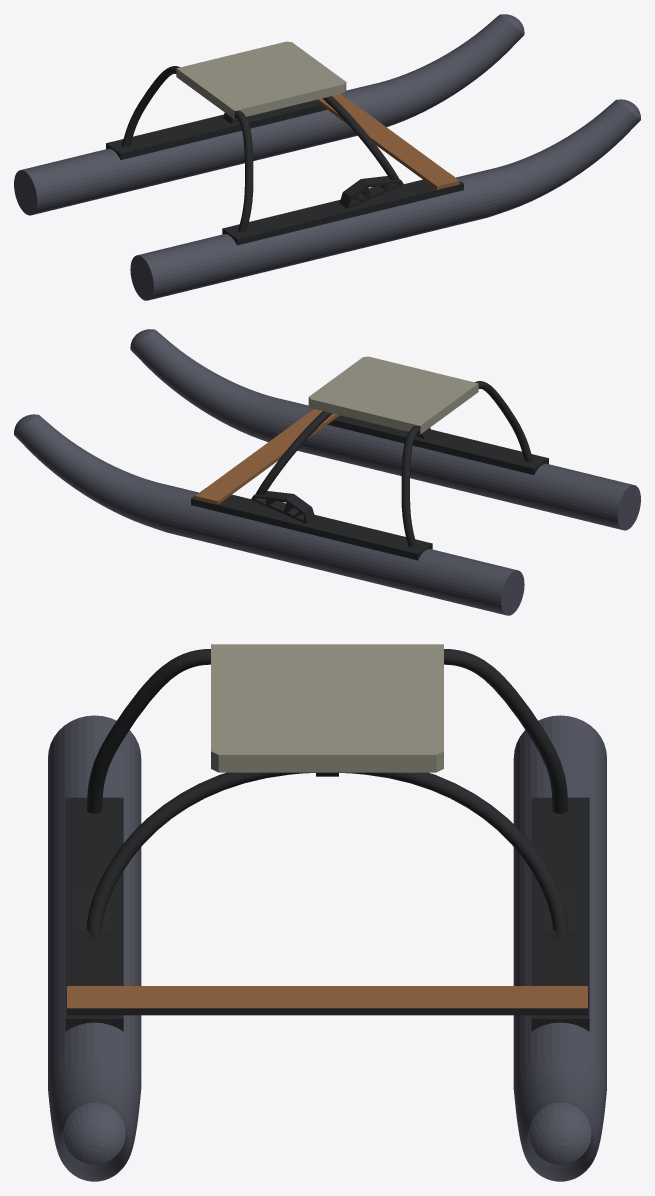
The model's file is wamv_low.dae.
3 views of the same model, one above another, from view 1: azimuth 30°, elevation 25°; view 2: azimuth 150°, elevation 25°; view 3: azimuth 270°, elevation 25° (orthographic). The views are drawn at different scales.
Parts seen in each view (by area): view 1: wamv_sim_half_001, wamv_sim_half; view 2: wamv_sim_half_001, wamv_sim_half; view 3: wamv_sim_half, wamv_sim_half_001.
Part boxes in pixels (x1=…): wamv_sim_half_001: x1=14, y1=14, x2=640, y2=300; wamv_sim_half: x1=106, y1=41, x2=463, y2=245; wamv_sim_half_001: x1=14, y1=329, x2=640, y2=615; wamv_sim_half: x1=191, y1=356, x2=548, y2=560; wamv_sim_half: x1=65, y1=644, x2=589, y2=1031; wamv_sim_half_001: x1=48, y1=715, x2=606, y2=1181.
Bounding box in the file's own units: 4.78 × 2.33 × 1.26.
